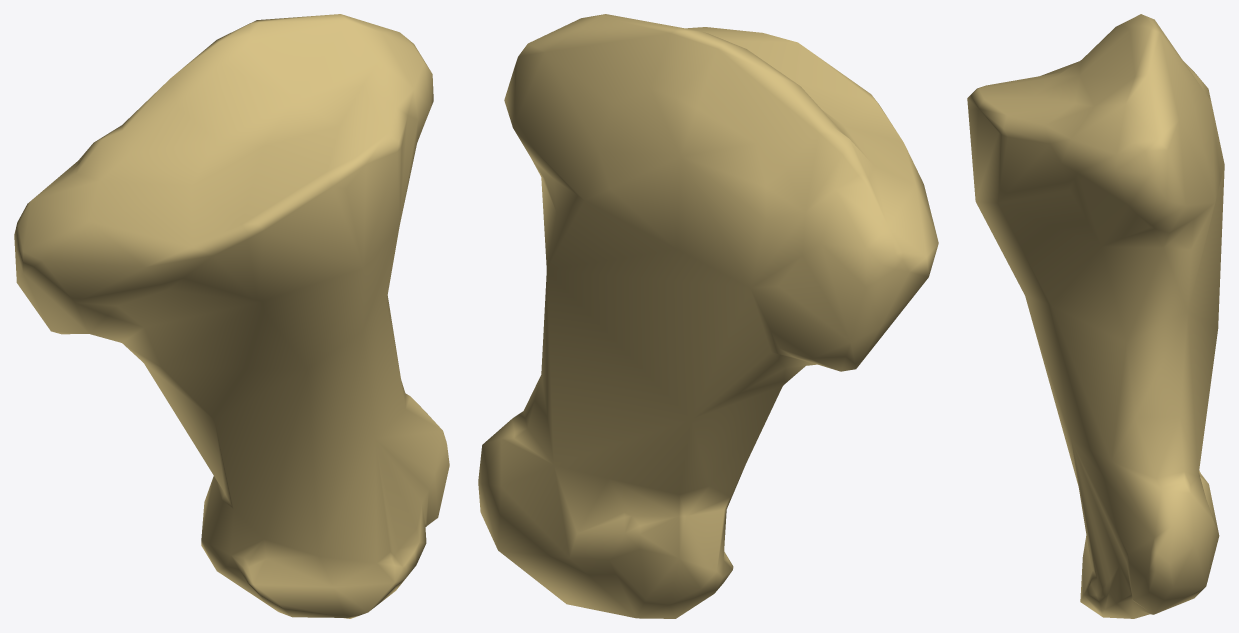
3 views of the same model, side by side, from view 1: azimuth 30°, elevation 25°; view 2: azimuth 150°, elevation 25°; view 3: azimuth 270°, elevation 25° (orthographic). The views are drawn at different scales.
Parts seen in each view (by area): view 1: 左侧第一趾远节趾骨; view 2: 左侧第一趾远节趾骨; view 3: 左侧第一趾远节趾骨.
Boxes of the visible parts, x1,y1,x2,y2 form: 左侧第一趾远节趾骨: [14, 14, 449, 618]; 左侧第一趾远节趾骨: [478, 14, 938, 618]; 左侧第一趾远节趾骨: [967, 14, 1224, 618].
Bounding box in the file's own units: 0.0305 × 0.0396 × 0.0169.
